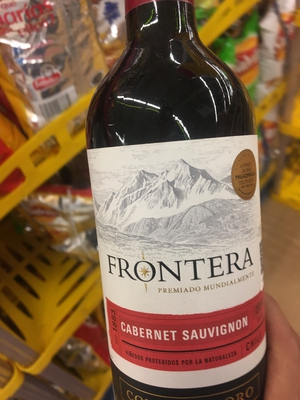frontera cabernet sauvignon: (82, 13, 282, 398)
